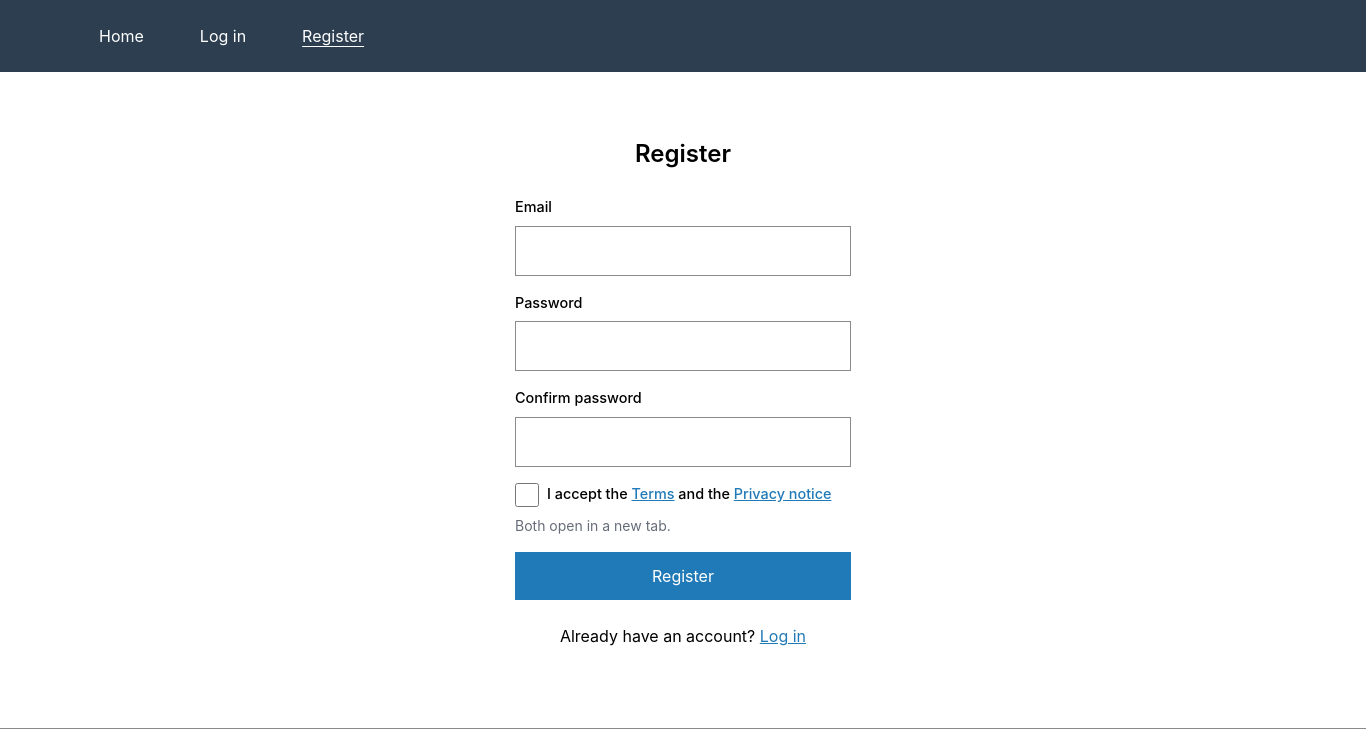
Authentication Flow Integration Tests › Registration Flow › shows the server message when the email is taken
Type "existing@example.com" into the field labelled "Email" at (683, 251), box [515,226,851,276]
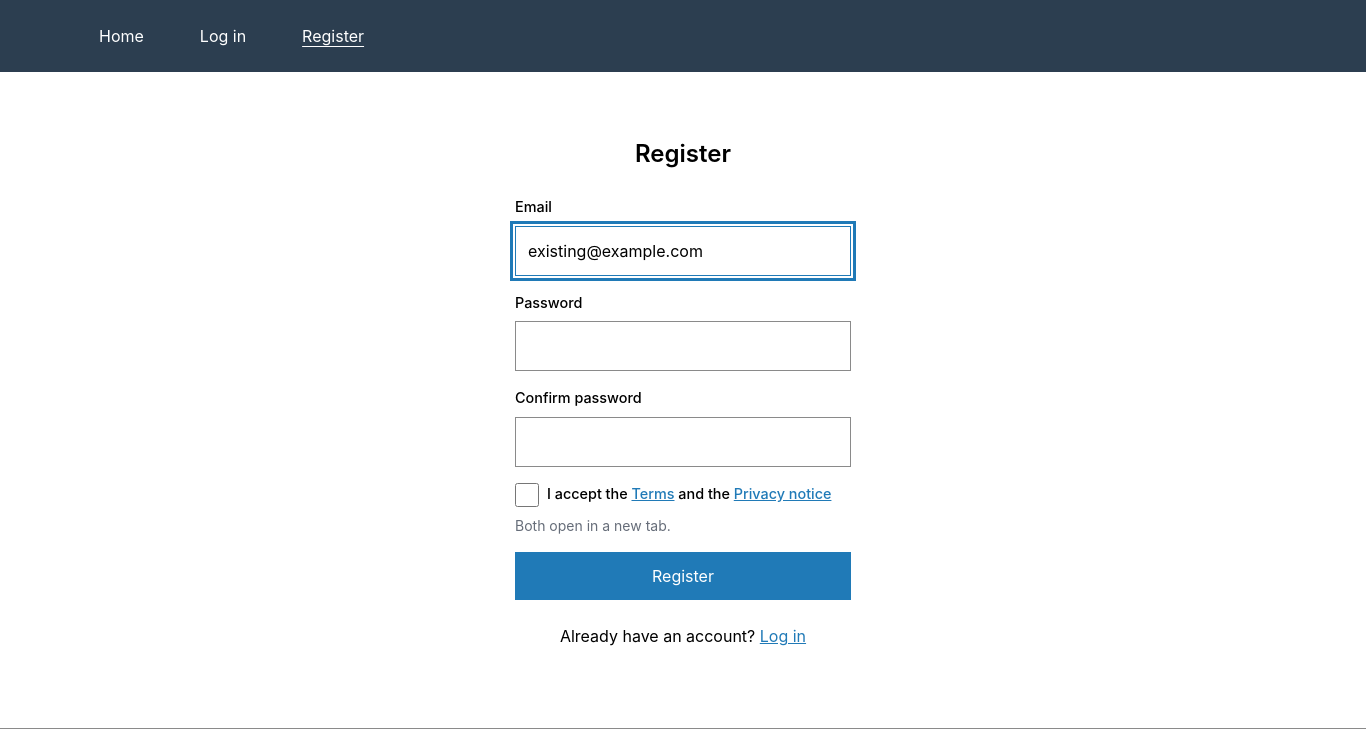
Type "Password123" into the password field labelled "Password" at (683, 346), box [515,321,851,371]
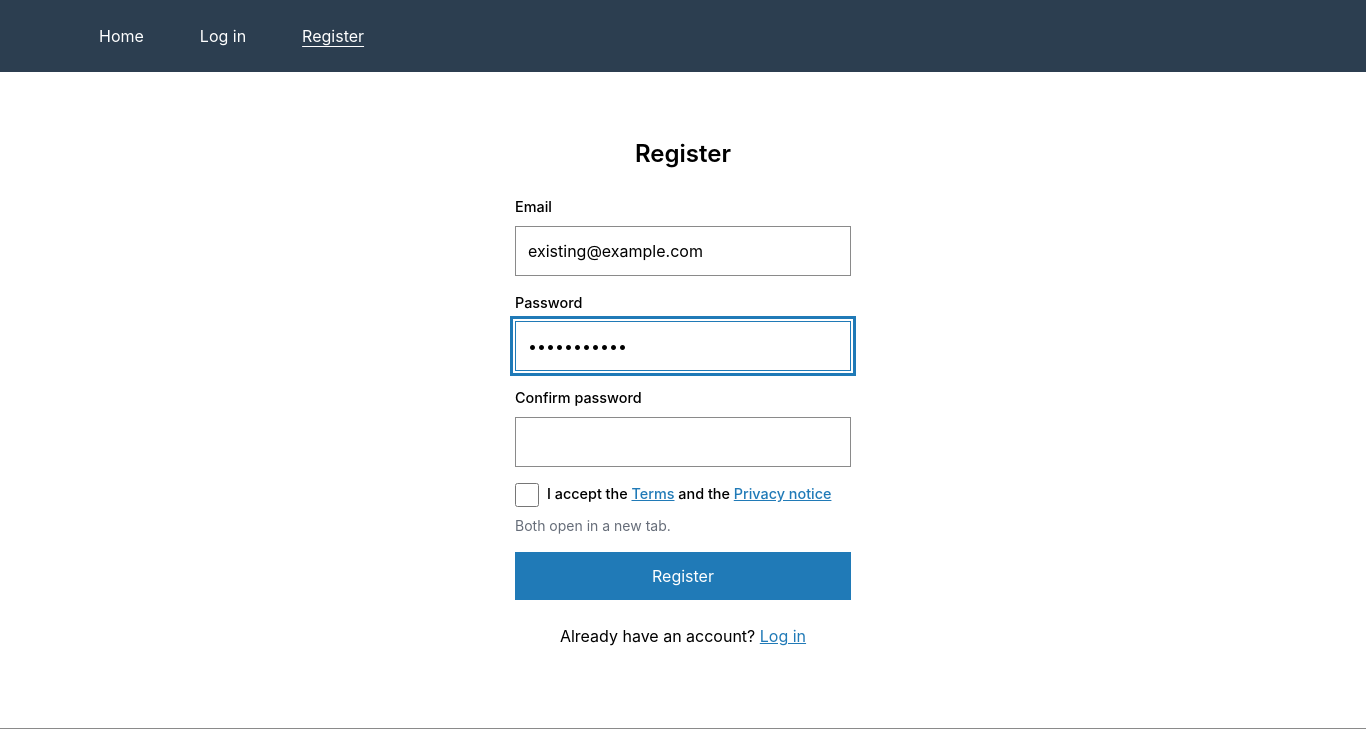
Type "Password123" into the password field labelled "Confirm password" at (683, 442), box [515,417,851,467]
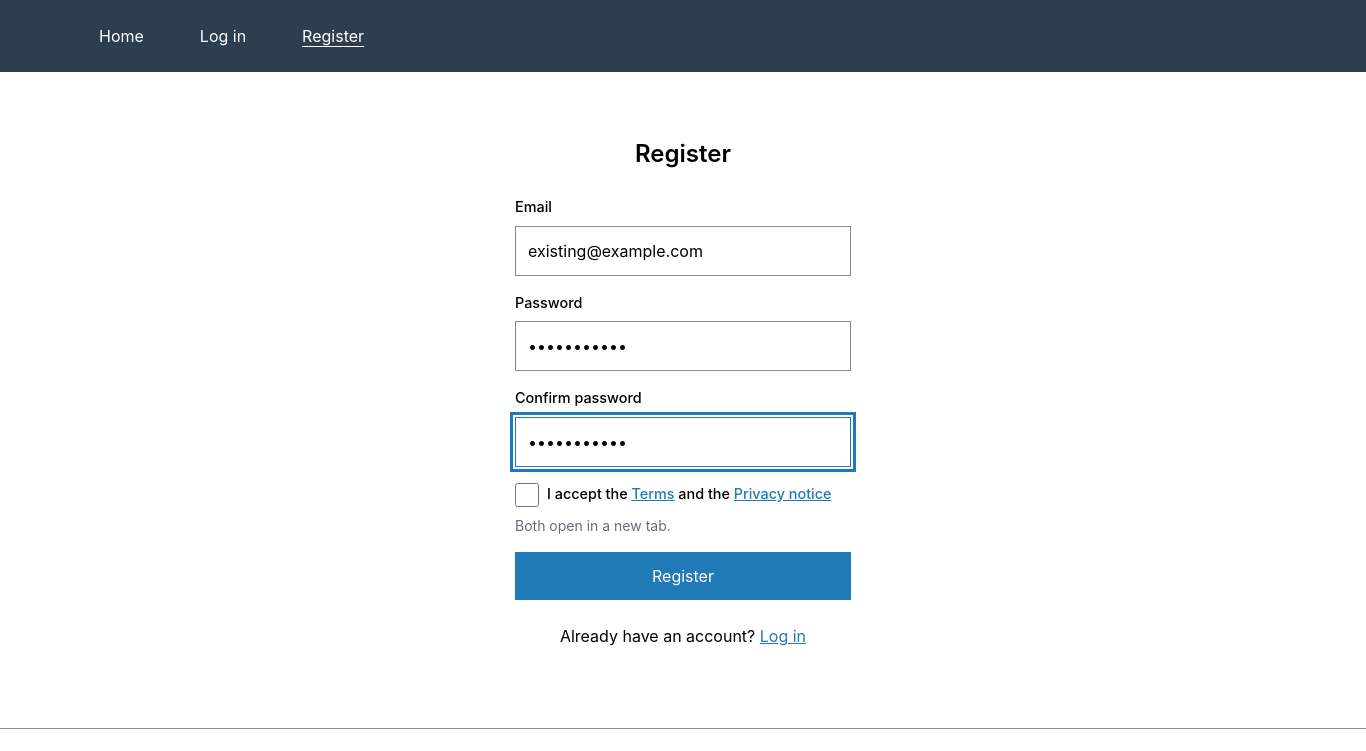
Click the checkbox labelled "I accept the Terms and the Privacy notice" at (527, 495), box [515,483,539,507]
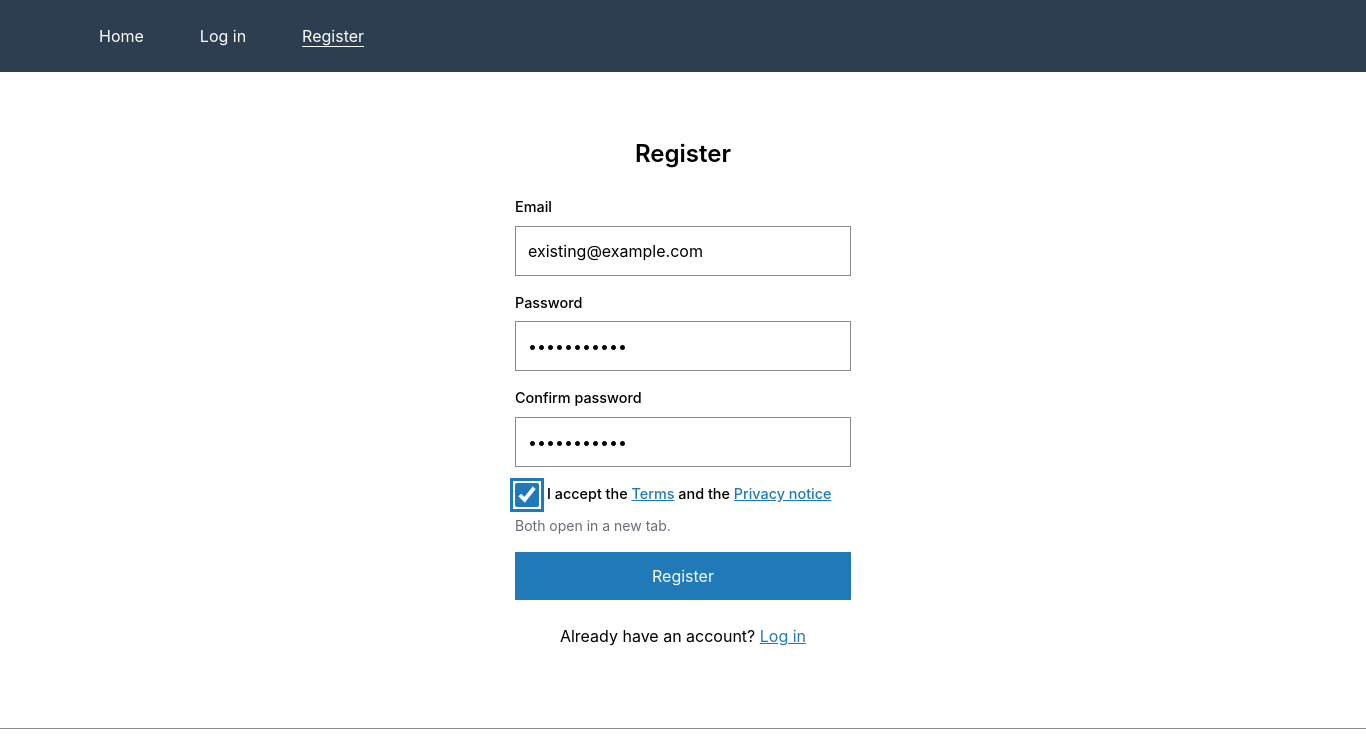
Click the button "Register" at (683, 576), box [515,552,851,600]
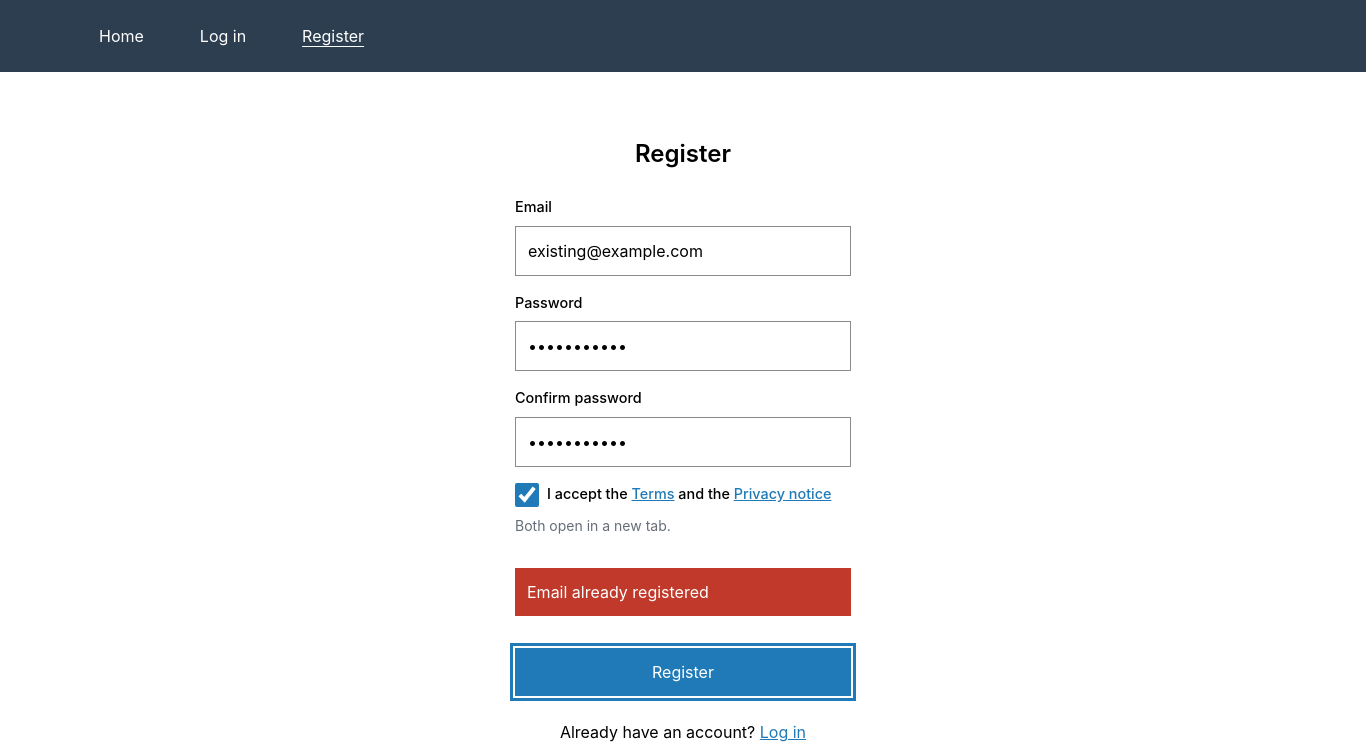
Check: the message reads "Email already registered", box [527,582,709,602]
